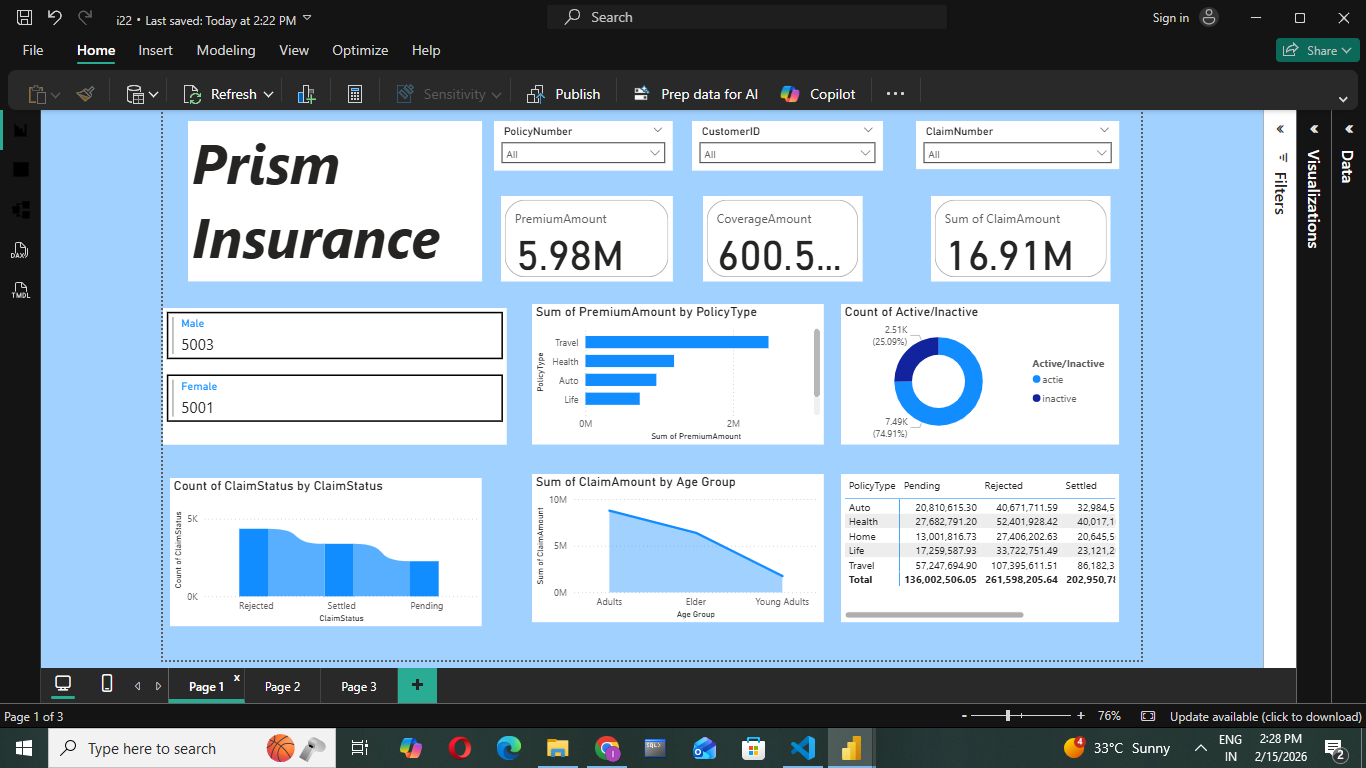

This screenshot's page, from the dashboard's own definition file:
{"tool":"powerbi","page":{"name":"Page 1","canvas":[1280,720],"ordinal":0},"visuals":[{"type":"slicer","fields":{"Values":["InsuranceData.PolicyNumber"]},"box":[433.5,14.7,233.6,64.7],"z":0},{"type":"slicer","fields":{"Values":["InsuranceData.CustomerID"]},"box":[692.1,14.7,249.8,64.7],"z":1000},{"type":"slicer","fields":{"Values":["InsuranceData.ClaimNumber"]},"box":[986,14.7,266,63.2],"z":2000},{"type":"textbox","box":[32.3,14.7,385,210.1],"z":3000},{"type":"cardVisual","fields":{"Data":["Sum(InsuranceData.PremiumAmount)"]},"box":[442.3,113.1,224.8,111.7],"z":4000},{"type":"cardVisual","fields":{"Data":["Sum(InsuranceData.CoverageAmount)"]},"box":[706.8,113.1,208.7,111.7],"z":5000},{"type":"cardVisual","fields":{"Data":["Sum(InsuranceData.ClaimAmount)"]},"box":[1000.7,113.1,207.2,111.7],"z":6000},{"type":"multiRowCard","fields":{"Values":["CountNonNull(InsuranceData.Gender)","InsuranceData.Gender"]},"box":[0,258.6,449.6,179.3],"z":7000},{"type":"ribbonChart","fields":{"Category":["InsuranceData.ClaimStatus"],"Y":["CountNonNull(InsuranceData.ClaimStatus)"]},"box":[8.8,482,408.5,194],"z":8000},{"type":"barChart","fields":{"Category":["InsuranceData.PolicyType"],"Y":["Sum(InsuranceData.PremiumAmount)"]},"box":[483.4,254.2,382,183.7],"z":9000},{"type":"lineChart","fields":{"Category":["InsuranceData.Age Group"],"Y":["Sum(InsuranceData.ClaimAmount)"]},"box":[483.4,476.1,382,194],"z":10000},{"type":"donutChart","title":"Count of Active/Inactive ","fields":{"Category":["InsuranceData.Active/Inactive"],"Y":["CountNonNull(InsuranceData.Active/Inactive)"]},"box":[887.5,254.2,364.4,183.7],"z":11000},{"type":"pivotTable","fields":{"Values":["Sum(InsuranceData.CoverageAmount)"],"Rows":["InsuranceData.PolicyType"],"Columns":["InsuranceData.ClaimStatus"]},"box":[887.5,476.1,364.4,194],"z":12000}]}

Visuals, with their boxes on the page's 1280x720 design canvas (x1, y1, x2, y2). These are canvas units, not pixel positions in the 1366x768 screenshot, which may show the page scaled, cropped or inside an application window:
slicer - InsuranceData.PolicyNumber: crop(434, 15, 667, 79)
slicer - InsuranceData.CustomerID: crop(692, 15, 942, 79)
slicer - InsuranceData.ClaimNumber: crop(986, 15, 1252, 78)
textbox: crop(32, 15, 417, 225)
cardVisual - Sum(InsuranceData.PremiumAmount): crop(442, 113, 667, 225)
cardVisual - Sum(InsuranceData.CoverageAmount): crop(707, 113, 916, 225)
cardVisual - Sum(InsuranceData.ClaimAmount): crop(1001, 113, 1208, 225)
multiRowCard - CountNonNull(InsuranceData.Gender) x InsuranceData.Gender: crop(0, 259, 450, 438)
ribbonChart - InsuranceData.ClaimStatus x CountNonNull(InsuranceData.ClaimStatus): crop(9, 482, 417, 676)
barChart - InsuranceData.PolicyType x Sum(InsuranceData.PremiumAmount): crop(483, 254, 865, 438)
lineChart - InsuranceData.Age Group x Sum(InsuranceData.ClaimAmount): crop(483, 476, 865, 670)
"Count of Active/Inactive " donutChart: crop(888, 254, 1252, 438)
pivotTable - Sum(InsuranceData.CoverageAmount) x InsuranceData.PolicyType: crop(888, 476, 1252, 670)
